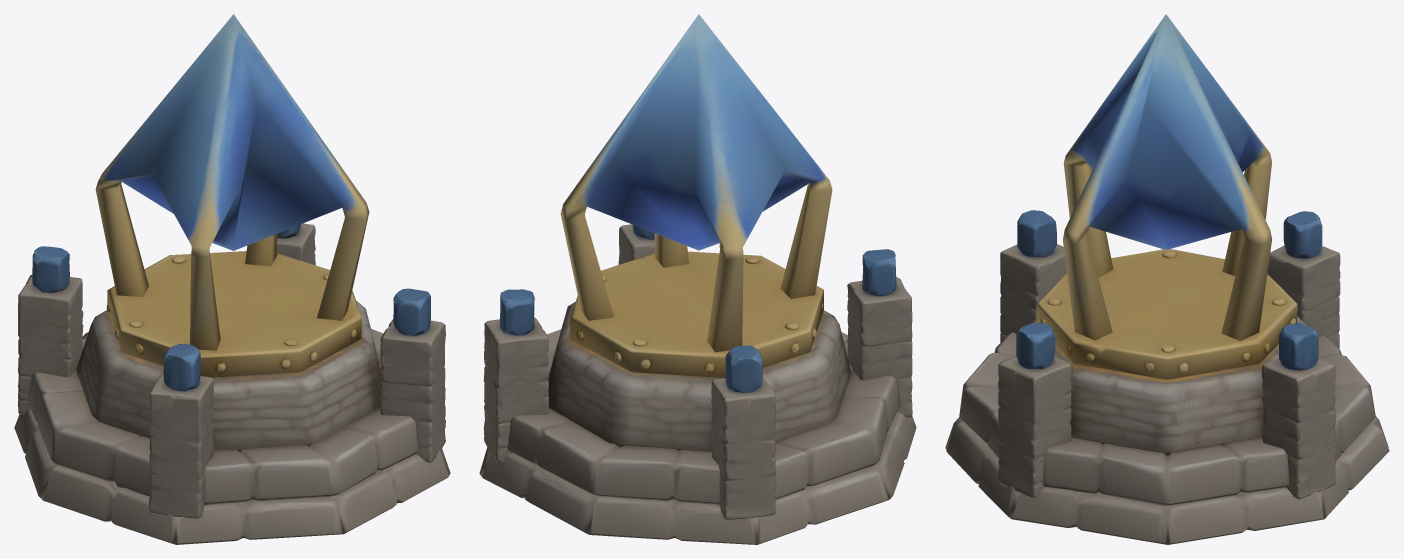
The model's file is keep_core_tripo.glb.
3 renders of one model, left to right at view 1: azimuth 30°, elevation 25°; view 2: azimuth 150°, elevation 25°; view 3: azimuth 270°, elevation 25°, orthographic.
Parts seen in each view (by area): view 1: tripo_node_cfb54c9a-cc95-4602-9e73-4d97b36da4a8; view 2: tripo_node_cfb54c9a-cc95-4602-9e73-4d97b36da4a8; view 3: tripo_node_cfb54c9a-cc95-4602-9e73-4d97b36da4a8.
Part boxes in pixels (<box>): tripo_node_cfb54c9a-cc95-4602-9e73-4d97b36da4a8: <box>14,14,450,544</box>; tripo_node_cfb54c9a-cc95-4602-9e73-4d97b36da4a8: <box>479,14,916,544</box>; tripo_node_cfb54c9a-cc95-4602-9e73-4d97b36da4a8: <box>945,14,1389,544</box>.
Bounding box in the file's own units: 0.9121 × 0.998 × 0.916.
Materials: 1 (1 with a texture image).
